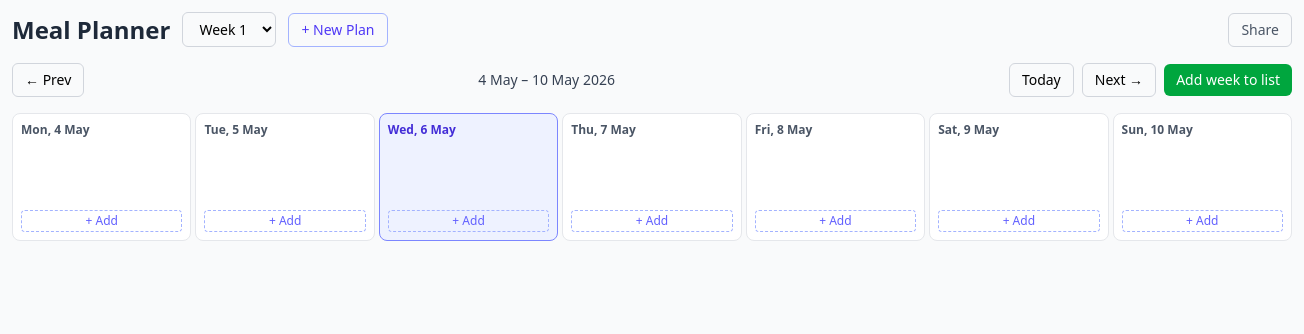
MealPlannerPage › shows + New Plan button and toggles form
Click the button "+ New Plan".
click(338, 30)  # box [288,12,388,46]
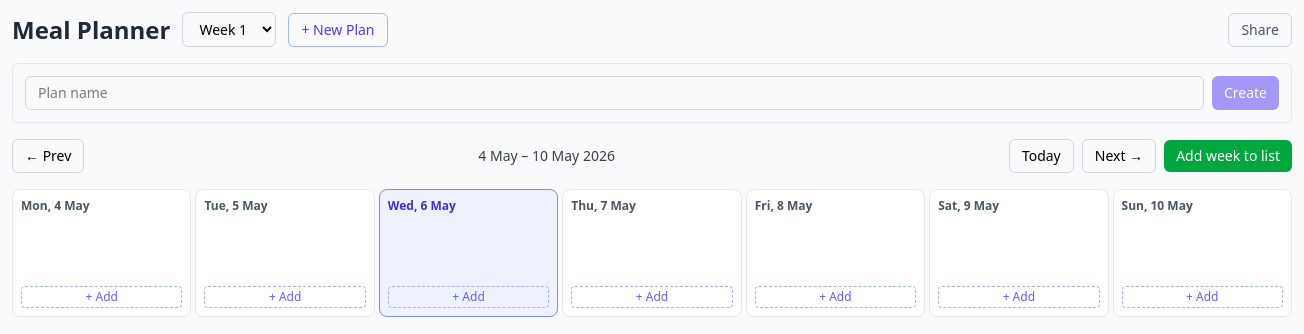
Expected: the field with placeholder "Plan name" is shown, [25,76,1204,110]
